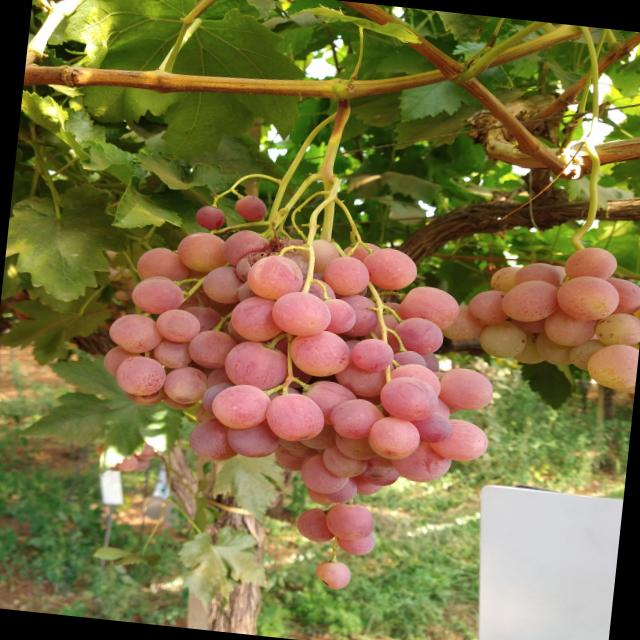grapes: (220, 337, 292, 392), (330, 343, 398, 400), (285, 326, 351, 380), (268, 288, 332, 340), (388, 432, 452, 484), (295, 378, 359, 430), (556, 272, 620, 323), (208, 380, 270, 432), (262, 392, 325, 443), (499, 276, 562, 326), (396, 283, 459, 333), (247, 250, 306, 302), (187, 412, 246, 463), (378, 372, 438, 422), (326, 394, 389, 441), (230, 292, 288, 343), (224, 410, 282, 460), (427, 417, 488, 463), (437, 364, 494, 413), (103, 310, 164, 355), (541, 301, 599, 348), (174, 228, 232, 275), (585, 340, 639, 390), (361, 245, 417, 292), (365, 414, 419, 462), (218, 226, 274, 272), (111, 353, 168, 398), (128, 274, 186, 318), (326, 292, 381, 338), (135, 244, 191, 288), (581, 275, 640, 316), (322, 500, 376, 544), (562, 243, 618, 284), (200, 262, 252, 306), (434, 302, 490, 342), (387, 362, 443, 402), (186, 328, 238, 371), (298, 454, 351, 496), (534, 326, 586, 368), (319, 436, 368, 480), (393, 316, 445, 357), (478, 317, 528, 359), (100, 339, 151, 380), (153, 305, 203, 346), (568, 336, 621, 374), (323, 254, 369, 297), (177, 304, 224, 345), (160, 364, 208, 404), (202, 375, 246, 416), (404, 408, 454, 444), (594, 309, 640, 348), (332, 424, 380, 461), (508, 324, 550, 366), (293, 505, 338, 544), (350, 336, 396, 374), (514, 260, 562, 296), (314, 296, 356, 336), (338, 239, 382, 276), (122, 370, 166, 406), (298, 236, 339, 274), (470, 287, 509, 325), (150, 335, 192, 370), (332, 526, 378, 556), (314, 558, 352, 594), (358, 442, 396, 478), (487, 263, 521, 299), (158, 382, 200, 411), (298, 420, 338, 450), (298, 277, 336, 308), (347, 470, 386, 498), (392, 348, 426, 380), (272, 442, 309, 471), (233, 192, 267, 222), (363, 458, 398, 487), (324, 474, 356, 504), (305, 481, 343, 505), (193, 204, 225, 230), (612, 360, 637, 393), (276, 432, 314, 452), (516, 310, 546, 331), (288, 440, 318, 457), (113, 273, 136, 290), (631, 294, 640, 331), (105, 268, 122, 282), (114, 288, 131, 301), (119, 266, 132, 278)
